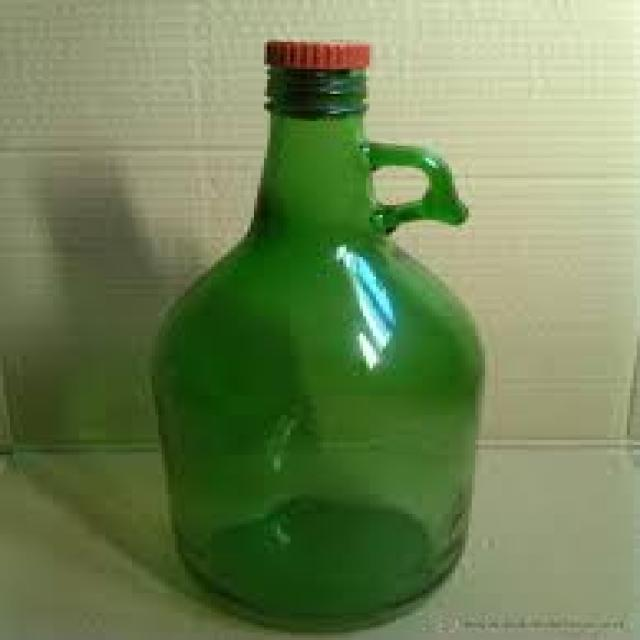cardboard: (0, 0, 637, 445), (475, 0, 637, 445), (0, 0, 152, 447)
glass: (146, 67, 479, 630)
plastic: (261, 35, 370, 64)
